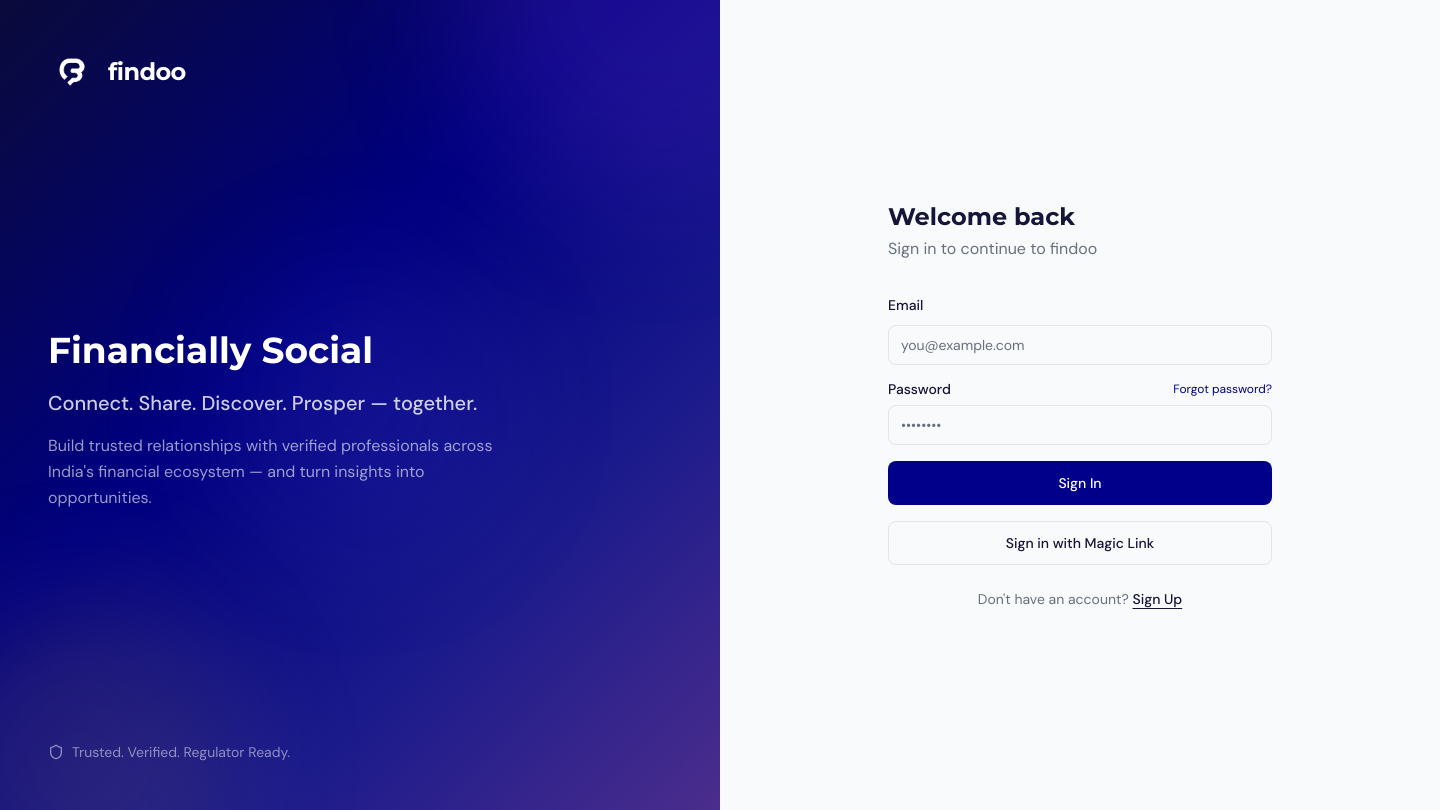
Auth Page Integration › Sign Up Flow › switches between sign in and sign up
Expected: the heading "Welcome back" is shown, [888, 202, 1075, 231]
Click the button "Sign Up".
click(1157, 599)  # box [1132, 589, 1182, 609]
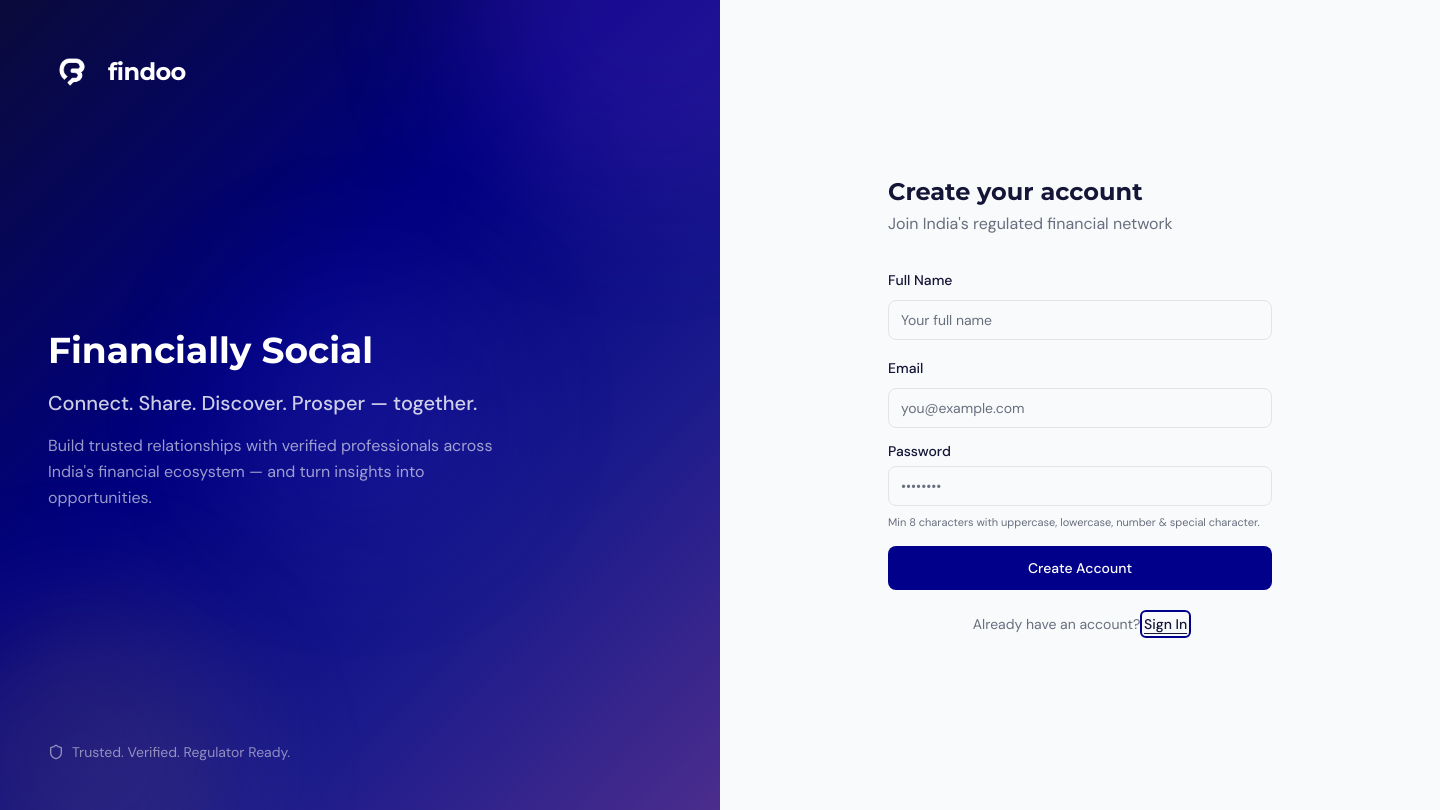
Now the heading "Create your account" is shown, box [888, 177, 1143, 206]
